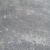others: (1, 1, 36, 40)
